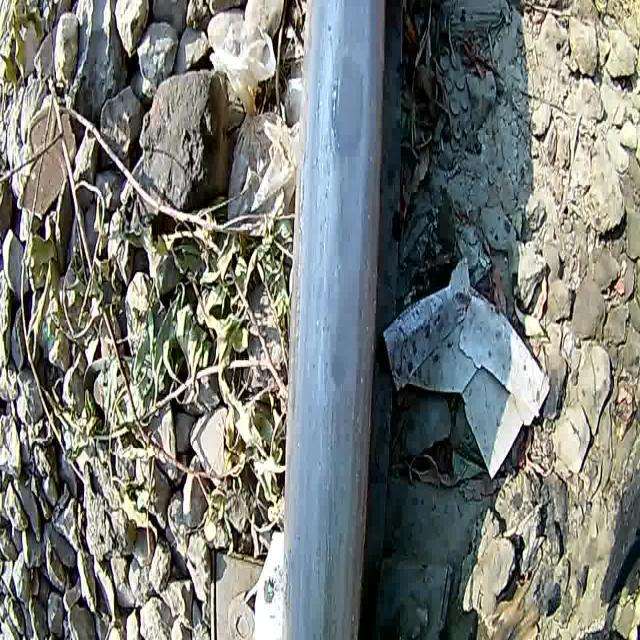Squats: (262, 1, 411, 640)
